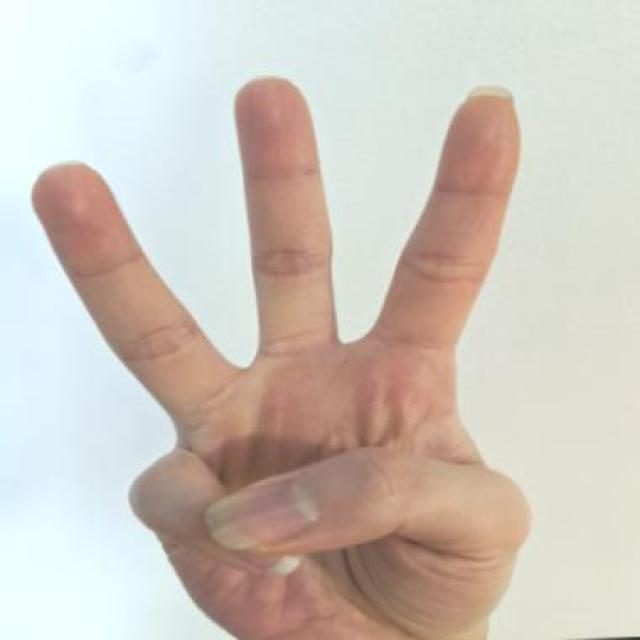W: (32, 72, 540, 640)
